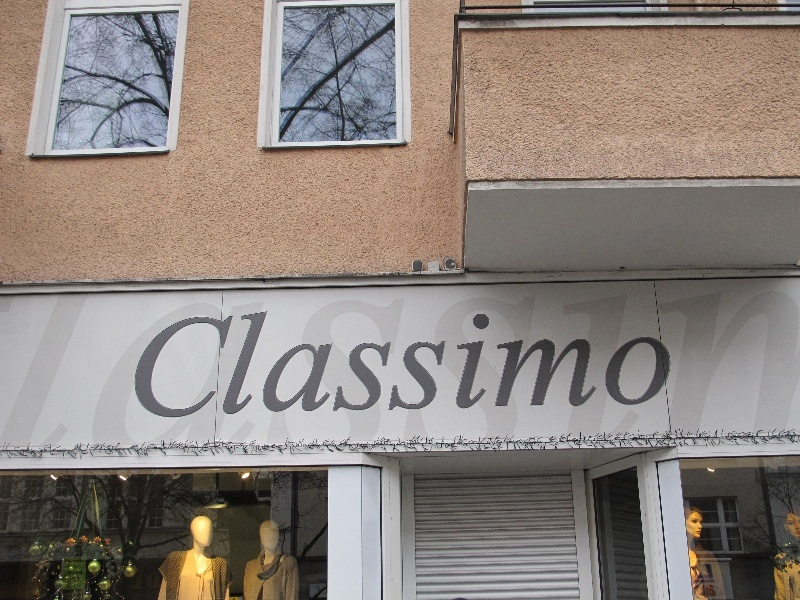text: (145, 309, 160, 421), (161, 309, 176, 421), (177, 309, 192, 421), (193, 309, 208, 421), (209, 309, 224, 421), (225, 309, 240, 421), (241, 309, 256, 421), (257, 309, 272, 421), (273, 309, 288, 421), (289, 309, 304, 421), (305, 309, 320, 421), (321, 309, 336, 421), (337, 309, 352, 421), (353, 309, 368, 421), (369, 309, 384, 421), (385, 309, 400, 421), (401, 309, 416, 421), (417, 309, 432, 421), (433, 309, 448, 421), (449, 309, 464, 421), (465, 309, 480, 421), (481, 309, 496, 421), (497, 309, 512, 421), (513, 309, 528, 421), (529, 309, 544, 421), (545, 309, 560, 421), (561, 309, 576, 421), (577, 309, 592, 421), (593, 309, 608, 421), (609, 309, 624, 421), (625, 309, 640, 421), (641, 309, 656, 421), (657, 309, 672, 421), (141, 309, 144, 421), (673, 309, 676, 421), (706, 585, 720, 597), (705, 564, 714, 579), (321, 586, 328, 595), (700, 564, 704, 579), (315, 586, 320, 595), (65, 565, 80, 568), (66, 560, 80, 563), (66, 572, 80, 575), (70, 577, 80, 580), (81, 560, 85, 563), (81, 565, 85, 568), (81, 572, 83, 575)
